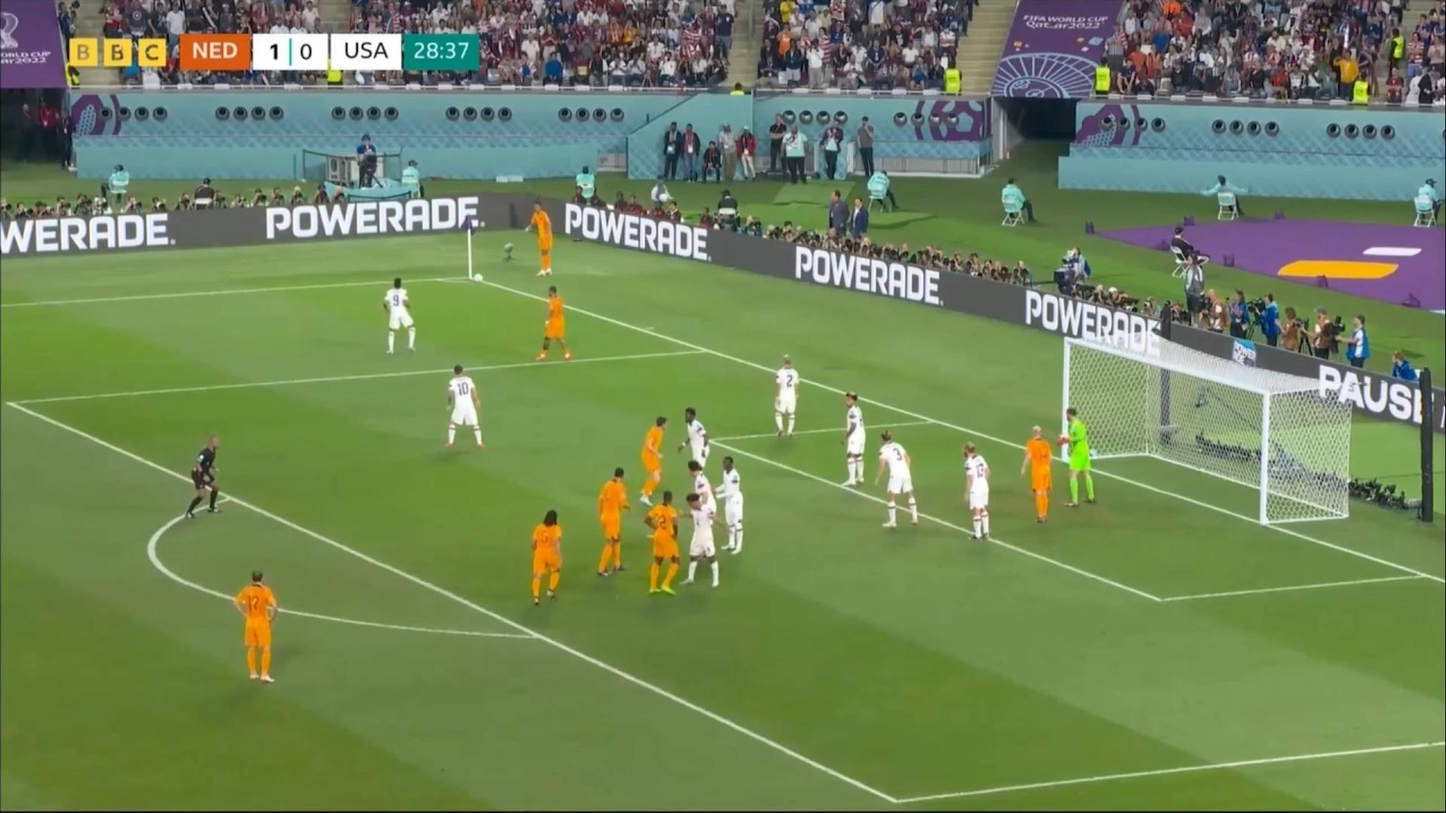Ball: (472, 272, 484, 284)
Player: (232, 566, 283, 687), (676, 494, 734, 588), (871, 428, 923, 530), (642, 492, 686, 596), (521, 510, 566, 608), (593, 468, 631, 578), (1056, 407, 1096, 508), (1017, 426, 1055, 524), (444, 363, 484, 454), (957, 441, 992, 541), (767, 355, 806, 441), (712, 454, 745, 555), (836, 390, 870, 488), (379, 276, 418, 357), (531, 285, 571, 363), (522, 199, 555, 278), (640, 415, 668, 505), (678, 407, 711, 468), (686, 460, 716, 524)
Ref: (178, 434, 225, 522)
